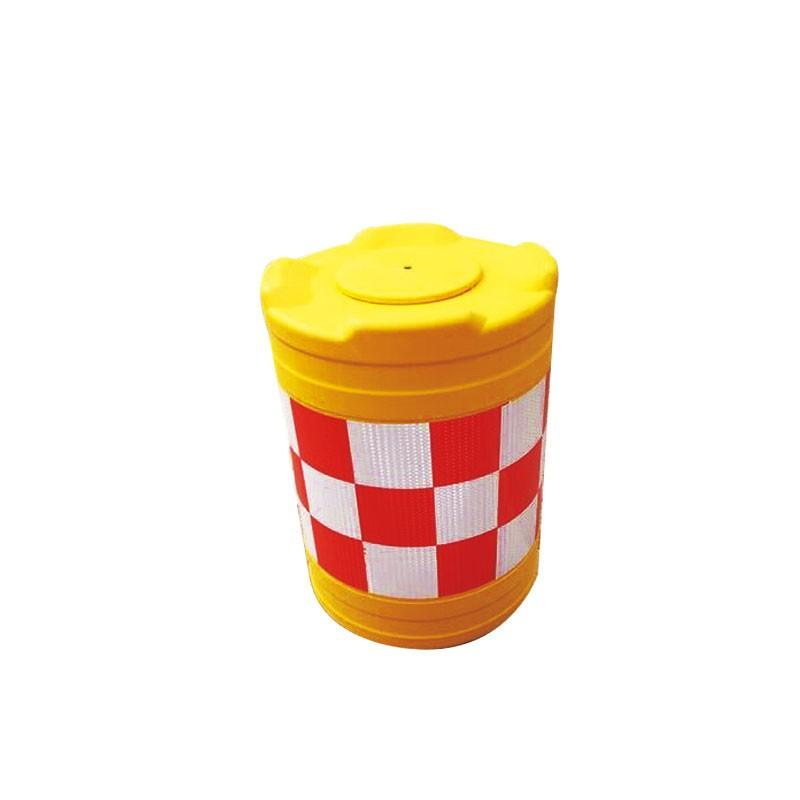sign: (246, 192, 568, 654)
